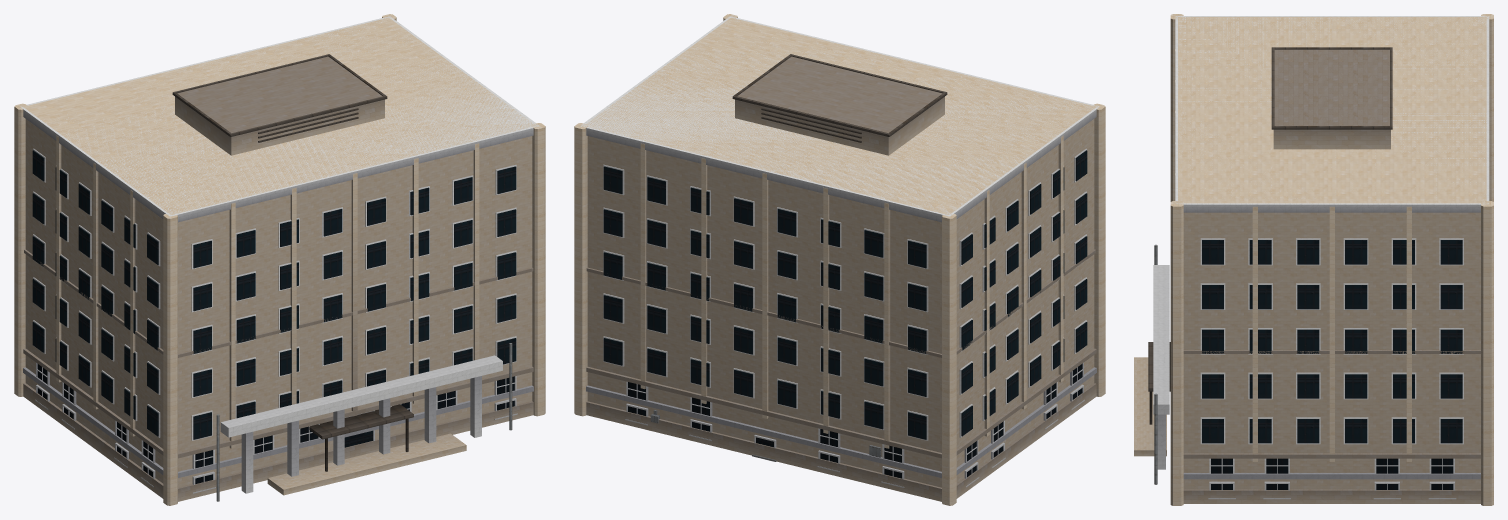
Rendered from civic-courts-annex_lod0.gltf.
The picture shows the model from 3 angles, left to right: view 1: azimuth 30°, elevation 25°; view 2: azimuth 150°, elevation 25°; view 3: azimuth 270°, elevation 25°; orthographic projection. The views are drawn at different scales.
Visible parts, largest first — view 1: civic-courts-annex_main, civic-courts-annex__v4_stone_detail, civic-courts-annex_fen_07-glass-curtain-blue_1_t, civic-courts-annex__cornice, civic-courts-annex_fen_05-white-marble_0, civic-courts-annex__colonnade_beam, civic-courts-annex__v4_metal_detail, civic-courts-annex__steps, civic-courts-annex__trim_band, civic-courts-annex__column_a, civic-courts-annex__column_f, civic-courts-annex__column_e (+1 smaller); view 2: civic-courts-annex_main, civic-courts-annex__v4_stone_detail, civic-courts-annex_fen_07-glass-curtain-blue_1_t, civic-courts-annex__cornice, civic-courts-annex_fen_05-white-marble_0, civic-courts-annex__trim_band, civic-courts-annex__v4_metal_detail; view 3: civic-courts-annex_main, civic-courts-annex__v4_stone_detail, civic-courts-annex_fen_07-glass-curtain-blue_1_t, civic-courts-annex_fen_05-white-marble_0, civic-courts-annex__cornice, civic-courts-annex__colonnade_beam, civic-courts-annex__trim_band, civic-courts-annex__v4_metal_detail, civic-courts-annex__steps, civic-courts-annex__column_f.
Part boxes in pixels (x1,y1,x2,y2): civic-courts-annex_main: (23, 17, 534, 487); civic-courts-annex__v4_stone_detail: (14, 14, 545, 505); civic-courts-annex_fen_07-glass-curtain-blue_1_t: (32, 150, 516, 483); civic-courts-annex__cornice: (20, 16, 539, 222); civic-courts-annex_fen_05-white-marble_0: (33, 148, 517, 493); civic-courts-annex__colonnade_beam: (220, 355, 502, 437); civic-courts-annex__v4_metal_detail: (172, 54, 413, 471); civic-courts-annex__steps: (267, 433, 466, 495); civic-courts-annex__trim_band: (23, 367, 533, 477); civic-courts-annex__column_a: (241, 431, 253, 493); civic-courts-annex__column_f: (470, 376, 481, 437); civic-courts-annex__column_e: (424, 387, 436, 443); civic-courts-annex_main: (585, 18, 1096, 487); civic-courts-annex__v4_stone_detail: (574, 14, 1105, 505); civic-courts-annex_fen_07-glass-curtain-blue_1_t: (603, 150, 1087, 478); civic-courts-annex__cornice: (580, 16, 1099, 222); civic-courts-annex_fen_05-white-marble_0: (603, 148, 1086, 487); civic-courts-annex__trim_band: (586, 367, 1096, 477); civic-courts-annex__v4_metal_detail: (732, 54, 947, 142); civic-courts-annex_main: (1178, 17, 1486, 489); civic-courts-annex__v4_stone_detail: (1170, 14, 1493, 505); civic-courts-annex_fen_07-glass-curtain-blue_1_t: (1202, 240, 1462, 489); civic-courts-annex_fen_05-white-marble_0: (1200, 238, 1463, 499); civic-courts-annex__cornice: (1175, 16, 1489, 212); civic-courts-annex__colonnade_beam: (1153, 265, 1169, 414); civic-courts-annex__trim_band: (1183, 473, 1480, 479); civic-courts-annex__v4_metal_detail: (1148, 47, 1392, 424); civic-courts-annex__steps: (1134, 357, 1166, 456); civic-courts-annex__column_f: (1157, 414, 1165, 469).
Bounding box in the file's own units: 41.36 × 32.3 × 32.68.
